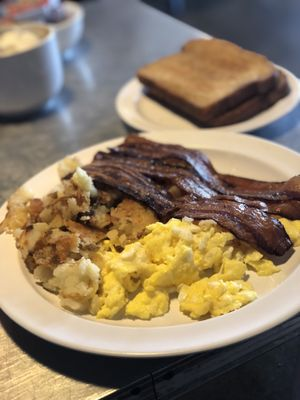pizza: (0, 21, 65, 121)
sushi: (0, 126, 299, 359)
